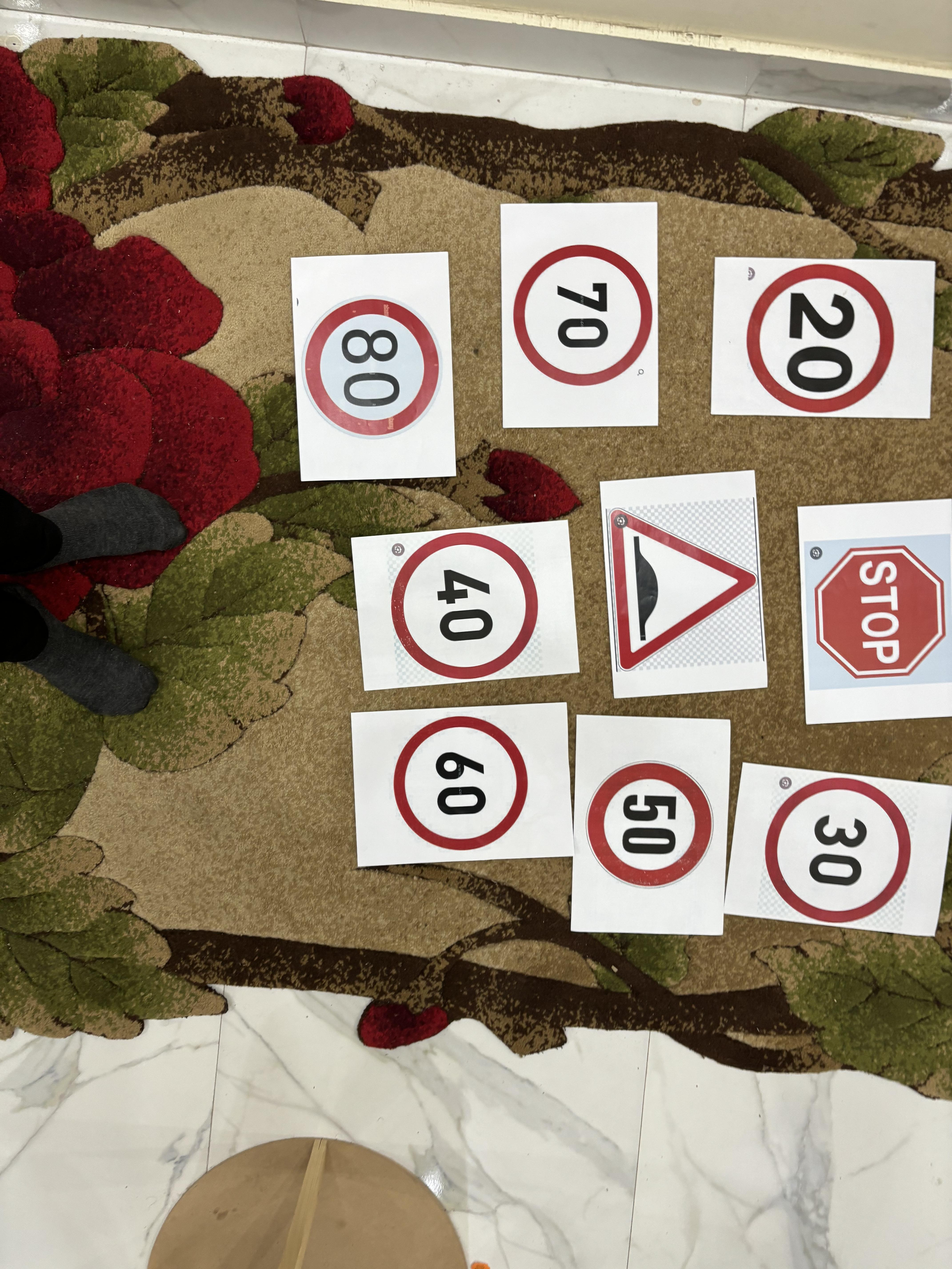20-Speed: (744, 260, 903, 415)
30-speed: (767, 778, 912, 924)
40-Speed: (386, 534, 545, 682)
50-Speed: (586, 754, 723, 886)
60-Speed: (392, 714, 532, 851)
70-Speed: (506, 243, 656, 387)
80-Speed: (305, 287, 445, 442)
Hump: (612, 509, 760, 675)
Stop: (804, 536, 947, 685)
